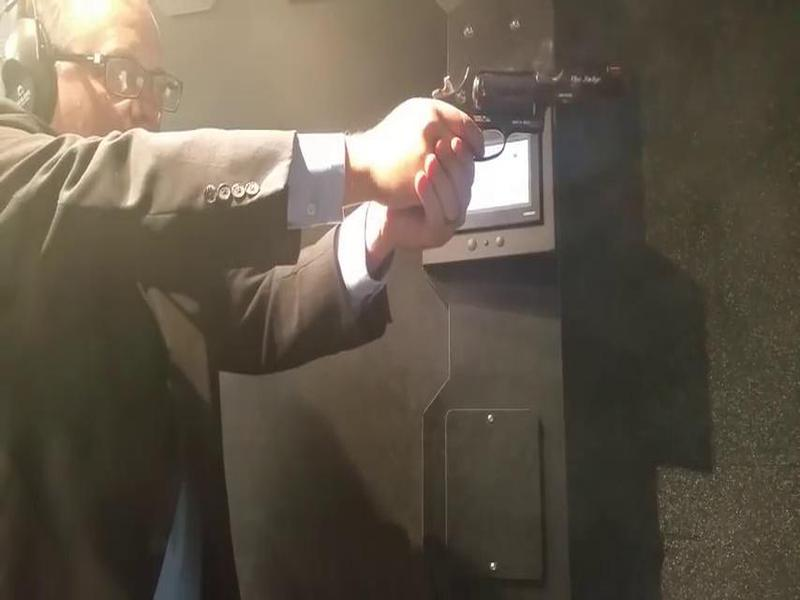Revolver: (402, 32, 629, 180)
